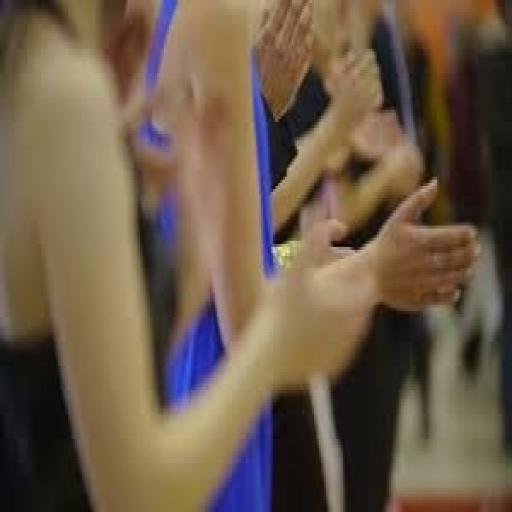clapping: (0, 0, 483, 509)
